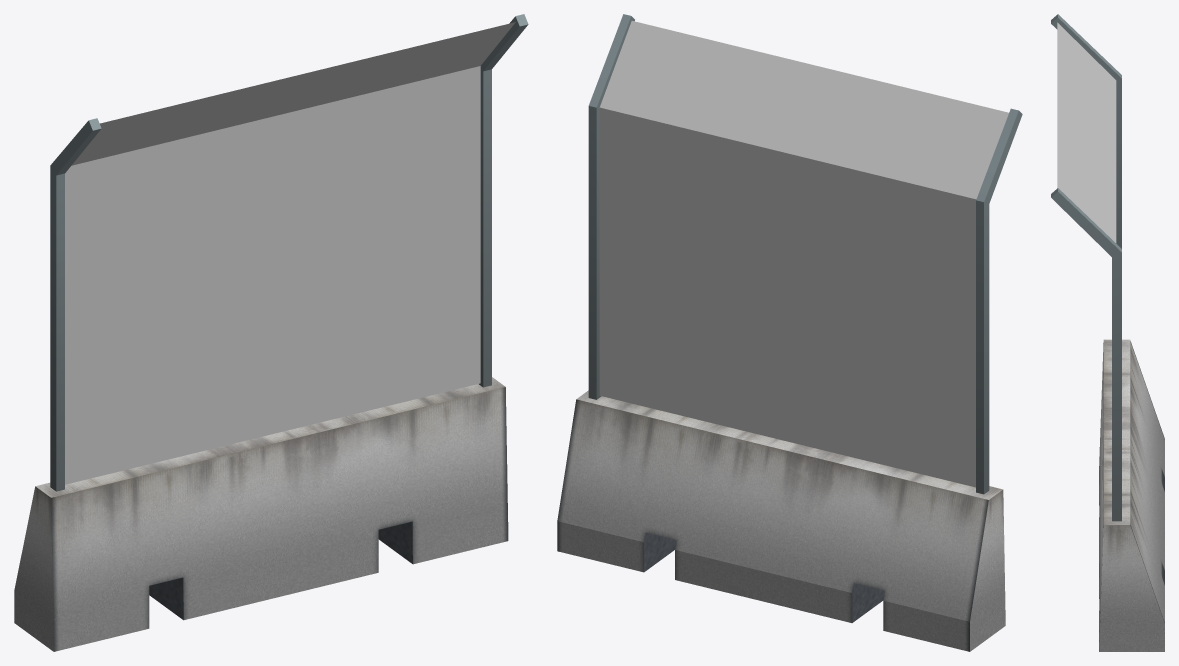
Rendered from wall_a.FBX.
3 views of the same model, side by side, from view 1: azimuth 30°, elevation 25°; view 2: azimuth 150°, elevation 25°; view 3: azimuth 270°, elevation 25° (orthographic). The views are drawn at different scales.
Parts seen in each view (by area): view 1: wall_fence_a, wall_a; view 2: wall_fence_a, wall_a; view 3: wall_a, wall_fence_a.
Boxes of the visible parts, box(x1,y1,x2,y2) form: wall_fence_a: box(65, 22, 515, 484); wall_a: box(14, 14, 528, 651); wall_fence_a: box(599, 21, 1008, 487); wall_a: box(557, 14, 1022, 651); wall_a: box(1051, 14, 1164, 651); wall_fence_a: box(1057, 22, 1116, 242).
Bounding box in the file's own units: 157 × 181 × 40.95.
